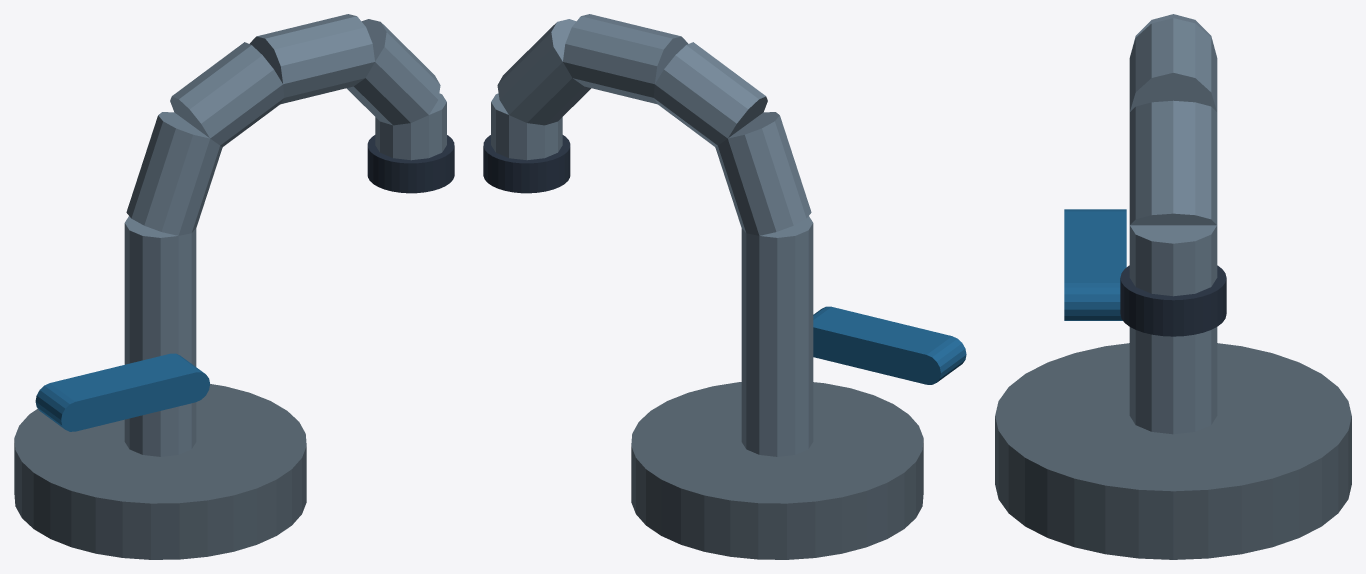
The model's file is faucet.glb.
3 views of the same model, side by side, from view 1: azimuth 30°, elevation 25°; view 2: azimuth 150°, elevation 25°; view 3: azimuth 270°, elevation 25° (orthographic). The views are drawn at different scales.
Parts seen in each view (by area): view 1: base, pipe0, lever, pipe1, pipe3, pipe2, pipe4, outlet, pipe5; view 2: base, pipe0, lever, pipe1, pipe3, pipe2, pipe4, outlet, pipe5; view 3: base, pipe4, pipe0, pipe3, lever, pipe5, outlet.
Part boxes in pixels (<box>): base: <box>14,384,306,559</box>; pipe0: <box>124,216,196,456</box>; lever: <box>35,353,209,431</box>; pipe1: <box>126,112,222,235</box>; pipe3: <box>249,14,374,104</box>; pipe2: <box>170,42,284,146</box>; pipe4: <box>347,19,440,125</box>; outlet: <box>367,135,454,193</box>; pipe5: <box>375,93,446,160</box>; base: <box>631,382,923,559</box>; pipe0: <box>741,216,813,456</box>; lever: <box>813,306,966,384</box>; pipe1: <box>715,112,811,235</box>; pipe3: <box>563,14,688,104</box>; pipe2: <box>653,42,767,146</box>; pipe4: <box>497,19,590,125</box>; outlet: <box>483,135,570,193</box>; pipe5: <box>491,93,562,160</box>; base: <box>995,343,1351,559</box>; pipe4: <box>1129,100,1217,225</box>; pipe0: <box>1129,327,1217,434</box>; pipe3: <box>1129,18,1217,111</box>; lever: <box>1064,209,1126,320</box>; pipe5: <box>1129,225,1217,296</box>; outlet: <box>1120,265,1226,336</box>.
Bounding box in the file's own units: 1.36 × 1.31 × 0.8.
